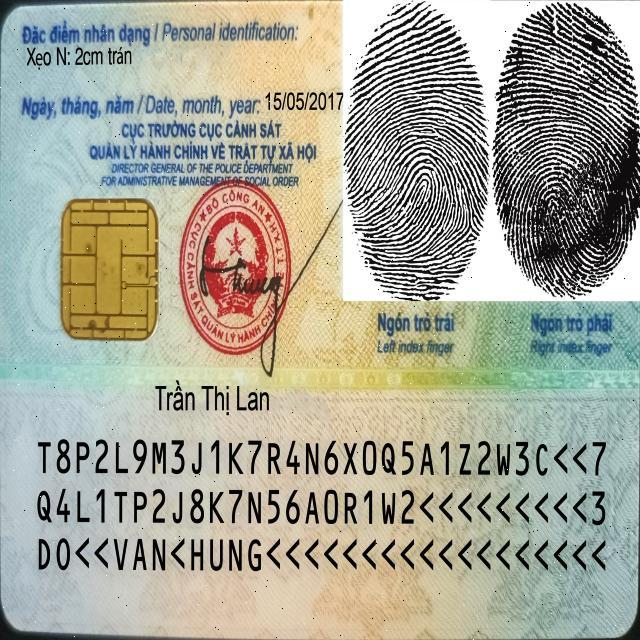features: (22, 44, 136, 76)
finger_print: (342, 1, 493, 361), (495, 3, 640, 358)
issue_date: (262, 86, 346, 117)
